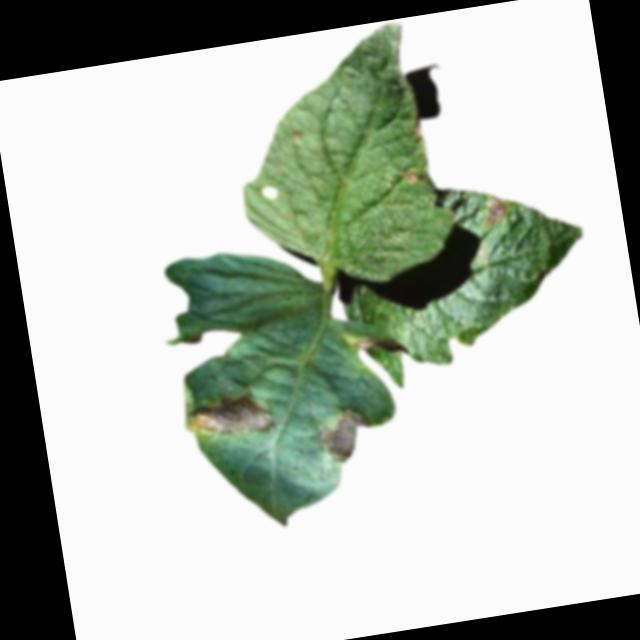Early_blight: (185, 381, 273, 447), (315, 401, 375, 468), (356, 328, 412, 363), (480, 193, 508, 231), (410, 116, 427, 143), (404, 166, 420, 186)
